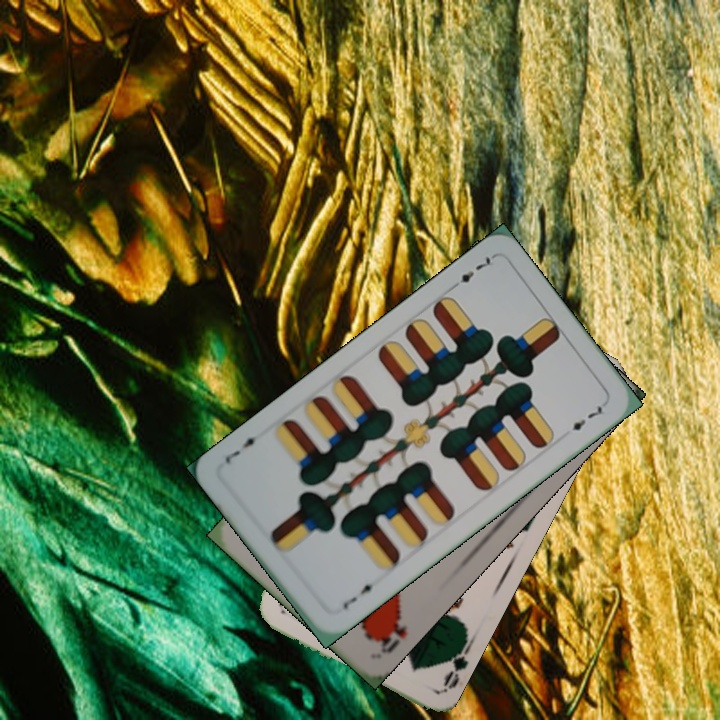E7: (446, 253, 497, 293), (338, 578, 381, 612)
GO: (438, 635, 476, 693)
HO: (373, 612, 410, 657)
